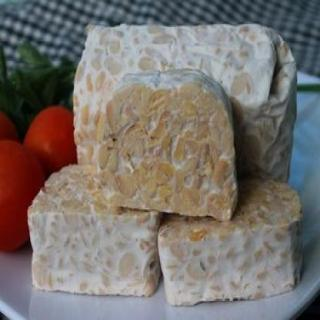Tempe: (93, 67, 241, 226)
